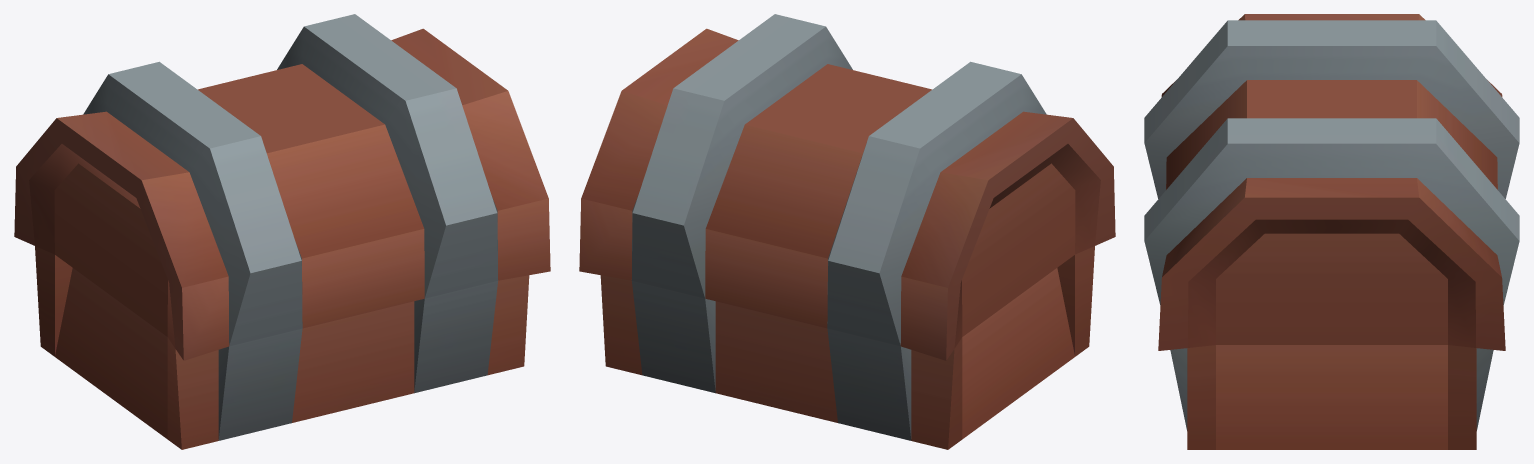
Rendered from trunk_small_a.glb.
3 views of the same model, side by side, from view 1: azimuth 30°, elevation 25°; view 2: azimuth 150°, elevation 25°; view 3: azimuth 270°, elevation 25° (orthographic). The views are drawn at different scales.
Parts seen in each view (by area): view 1: trunk_small_A; view 2: trunk_small_A; view 3: trunk_small_A.
Boxes of the visible parts, <box> form: trunk_small_A: <box>14,14,550,449</box>; trunk_small_A: <box>579,14,1115,449</box>; trunk_small_A: <box>1144,14,1519,449</box>.
Bounding box in the file's own units: 0.6754 × 0.4843 × 0.5834.
1 material, 1 textured.
